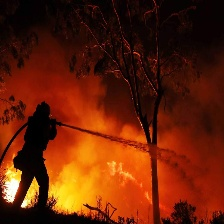fire: (4, 172, 34, 211)
smoke: (6, 14, 221, 207)
